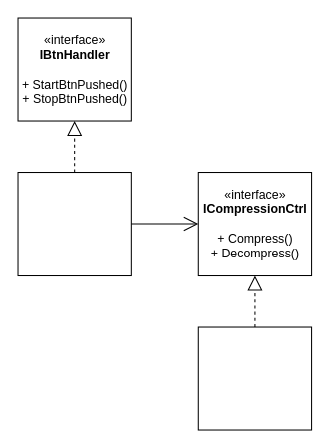
Image size: 330x448. Some labels were removed from this diagram. Here are the shapes that lost their labels. From the top down, the centre of each, then its label:
the point at 74,223: StockingController + StartBtnPushed() + StopBtnPushed()
the point at 254,378: CompressionCtrl + Compress() + Decompress()
